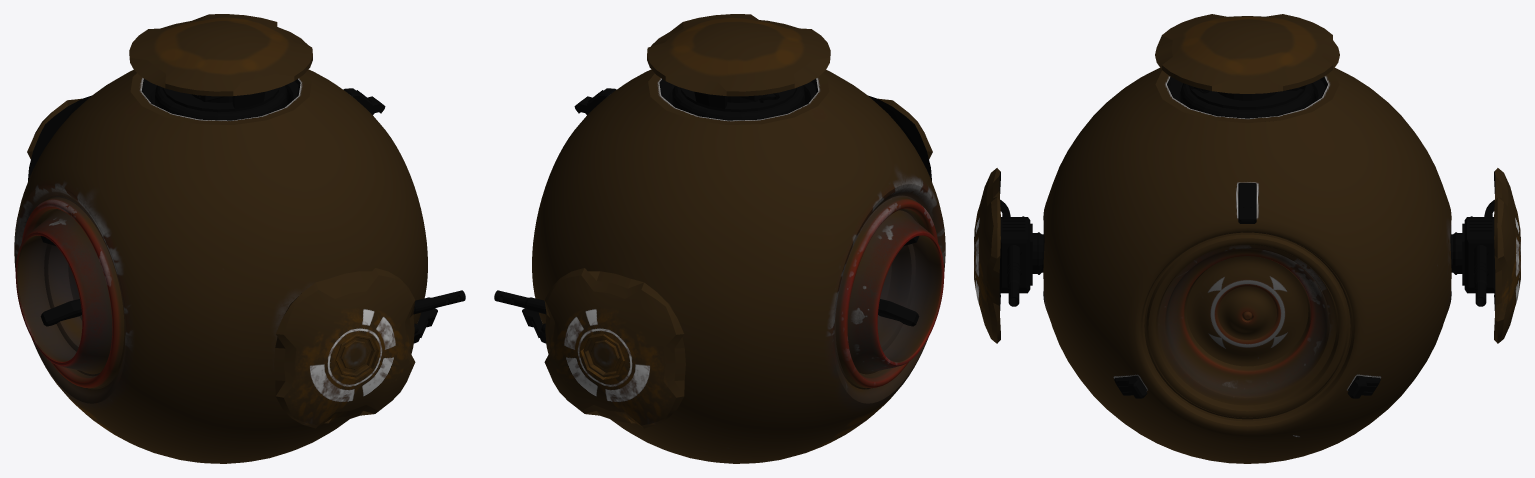
File: DroneSciFi.fbx
3 views of the same model, side by side, from view 1: azimuth 30°, elevation 25°; view 2: azimuth 150°, elevation 25°; view 3: azimuth 270°, elevation 25° (orthographic).
Visible parts, largest first — view 1: DroneBase, Drone.Weapon2, Drone.Head, Drone.Weapon1; view 2: DroneBase, Drone.Weapon1, Drone.Head, Drone.Weapon2; view 3: DroneBase, Drone.Head, Drone.Weapon1, Drone.Weapon2.
Boxes of the visible parts, x1=… form: DroneBase: x1=14, y1=69, x2=437, y2=463; Drone.Weapon2: x1=274, y1=268, x2=465, y2=428; Drone.Head: x1=129, y1=14, x2=312, y2=120; Drone.Weapon1: x1=27, y1=95, x2=91, y2=181; DroneBase: x1=522, y1=69, x2=945, y2=463; Drone.Weapon1: x1=494, y1=268, x2=685, y2=428; Drone.Head: x1=647, y1=14, x2=830, y2=120; Drone.Weapon2: x1=868, y1=95, x2=932, y2=181; DroneBase: x1=1043, y1=68, x2=1451, y2=463; Drone.Head: x1=1155, y1=14, x2=1339, y2=118; Drone.Weapon1: x1=1450, y1=168, x2=1520, y2=343; Drone.Weapon2: x1=974, y1=168, x2=1044, y2=343.
Bounding box in the file's own units: 415 × 489 × 589.
